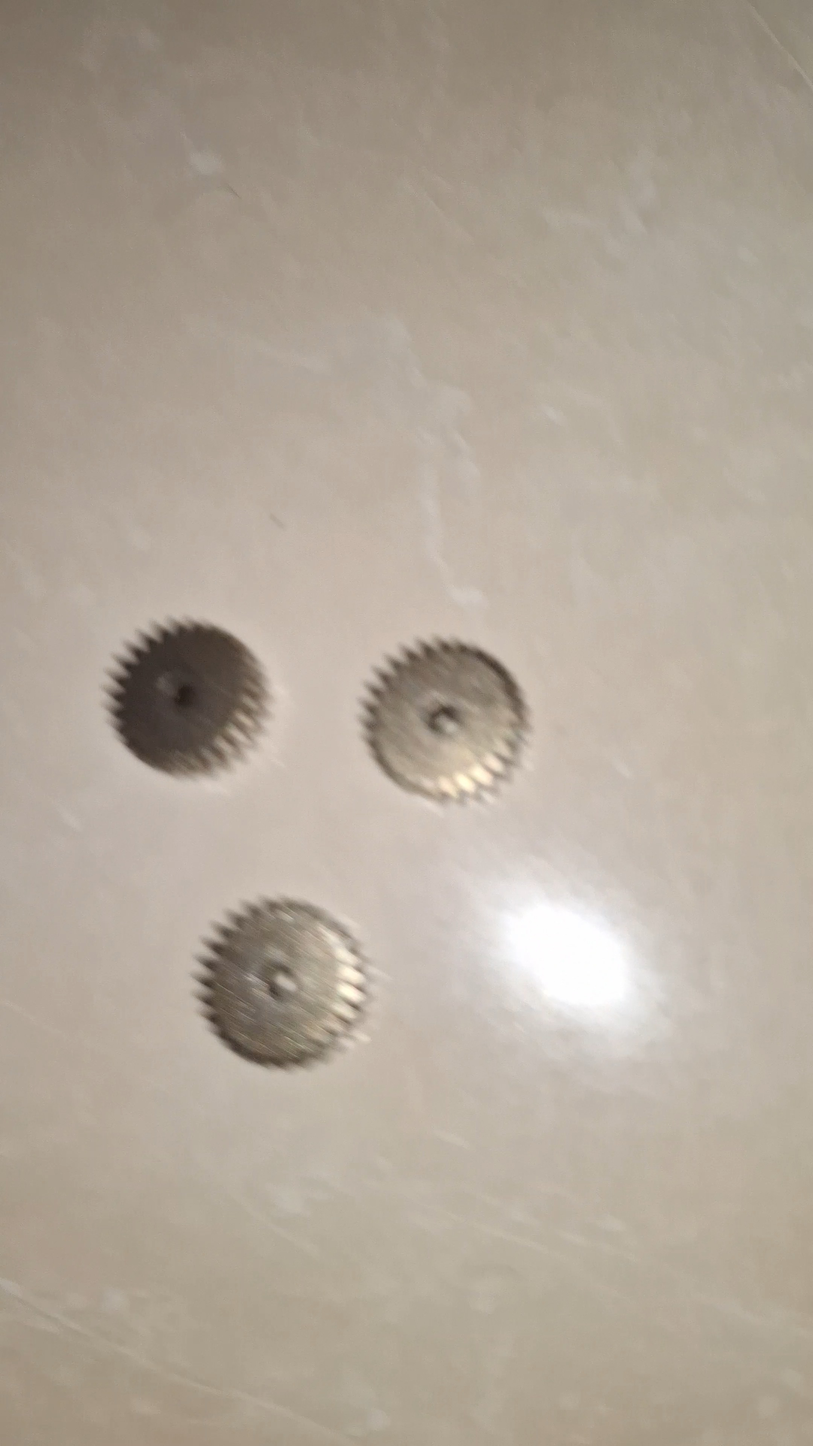spur gear: (201, 899, 366, 1067), (366, 641, 527, 800), (110, 622, 268, 775)
